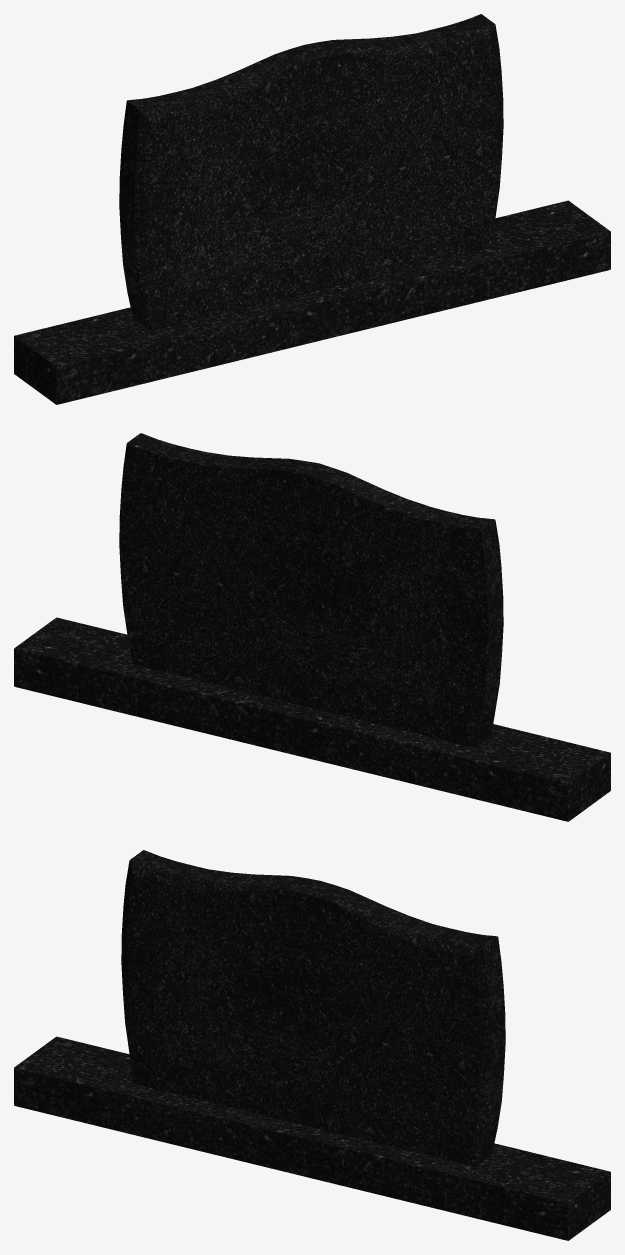
Rendered from Number 23.gltf.
3 views of the same model, one above another, from view 1: azimuth 30°, elevation 25°; view 2: azimuth 150°, elevation 25°; view 3: azimuth 330°, elevation 25° (orthographic).
Parts seen in each view (by area): view 1: Cube.025, Cube.024; view 2: Cube.025, Cube.024; view 3: Cube.025, Cube.024.
Boxes of the visible parts, <box> form: Cube.025: <box>119,14,503,330</box>; Cube.024: <box>14,200,610,404</box>; Cube.025: <box>119,433,503,747</box>; Cube.024: <box>14,617,610,821</box>; Cube.025: <box>121,850,505,1166</box>; Cube.024: <box>14,1036,610,1240</box>.
Bounding box in the file's own units: 1.5 × 0.7005 × 0.2.
Materials: 1 (1 with a texture image).
